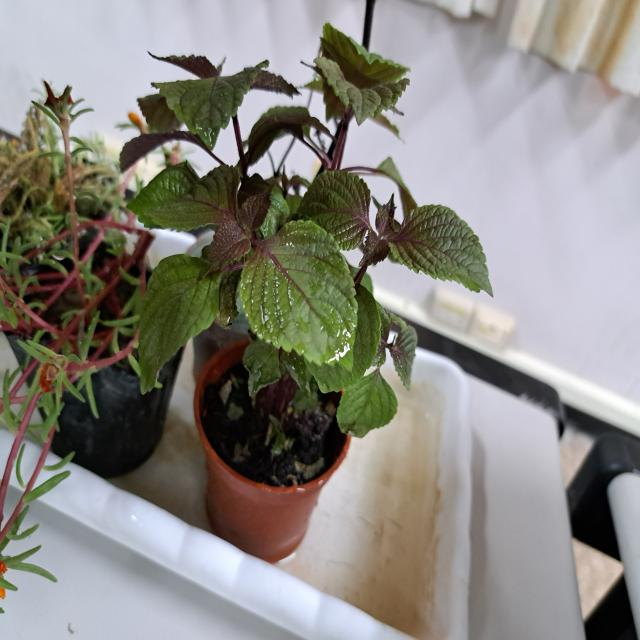normal: (114, 34, 508, 478)
weak: (2, 74, 112, 633)
